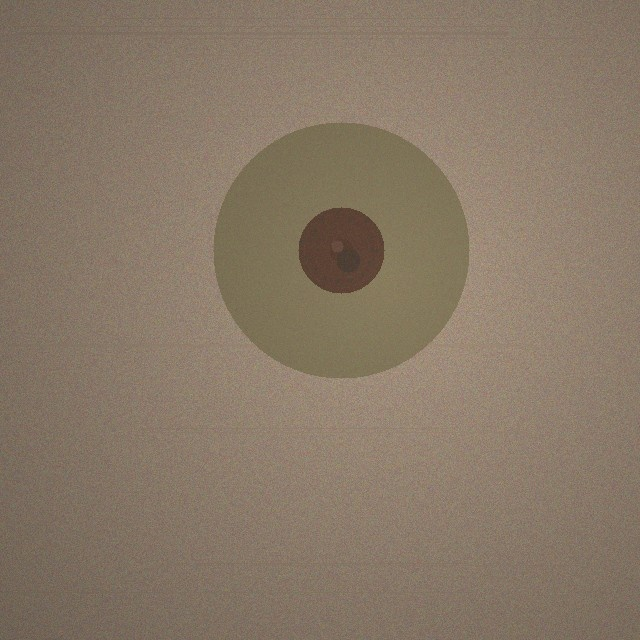cold_weld: (213, 122, 469, 378)
